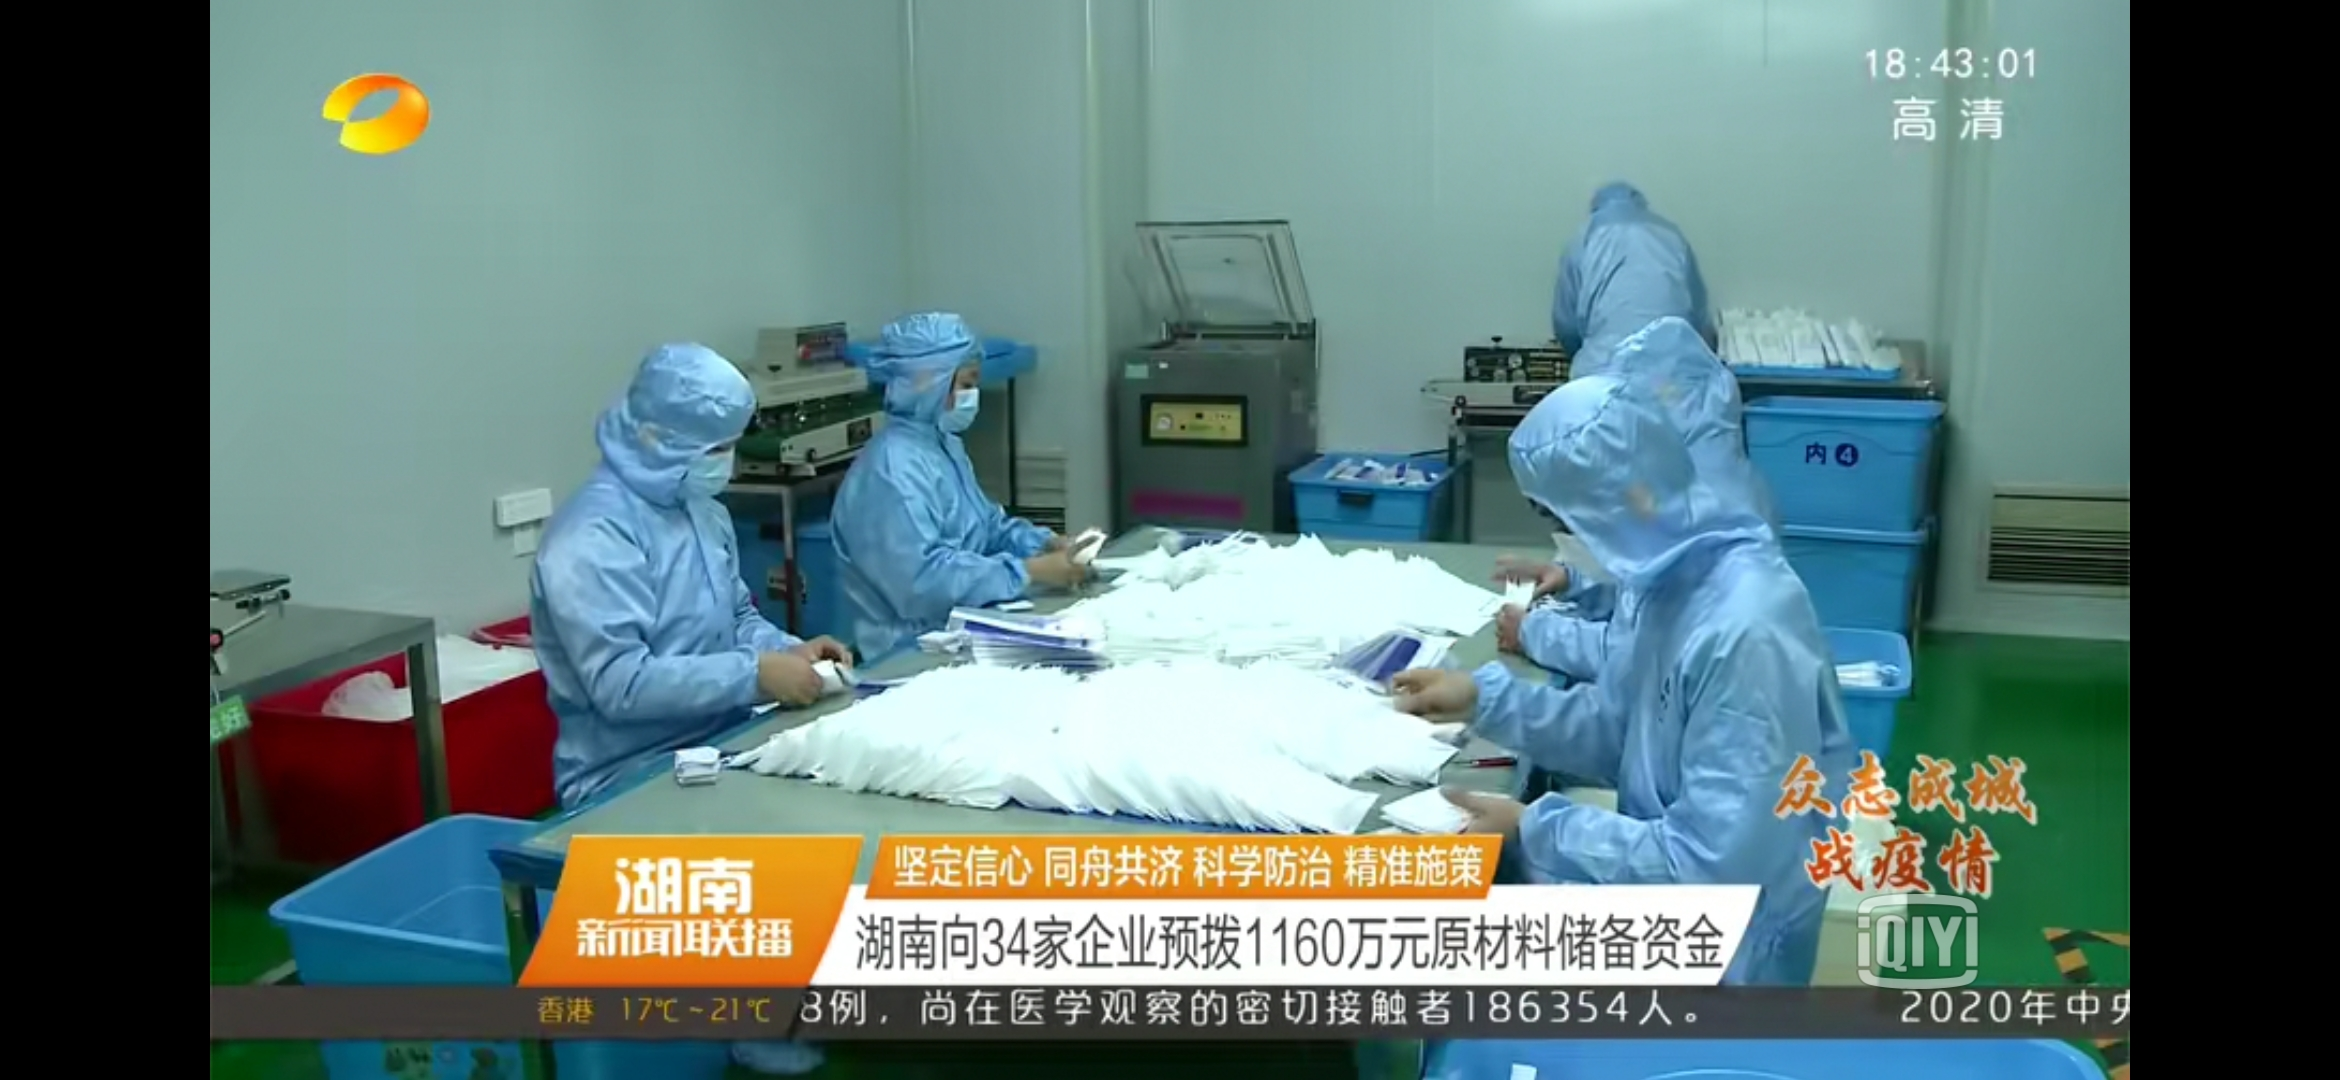correctlyWear: (645, 386, 745, 506), (1519, 459, 1616, 579), (916, 354, 988, 436)
